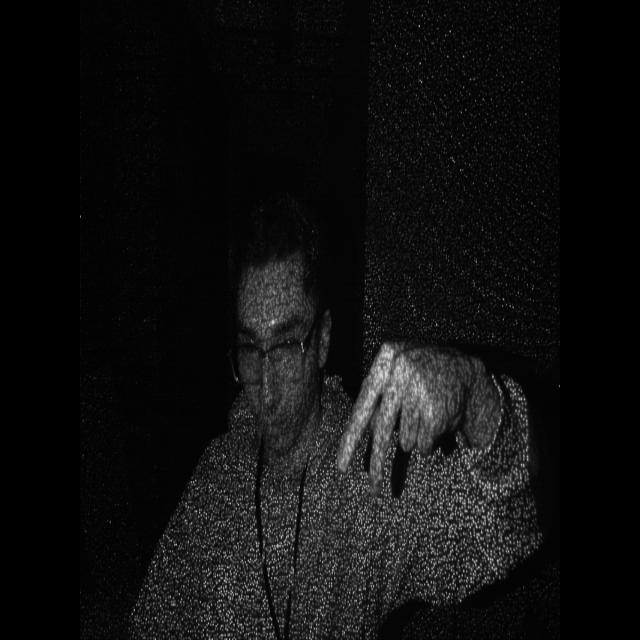P: (332, 308, 460, 511)
